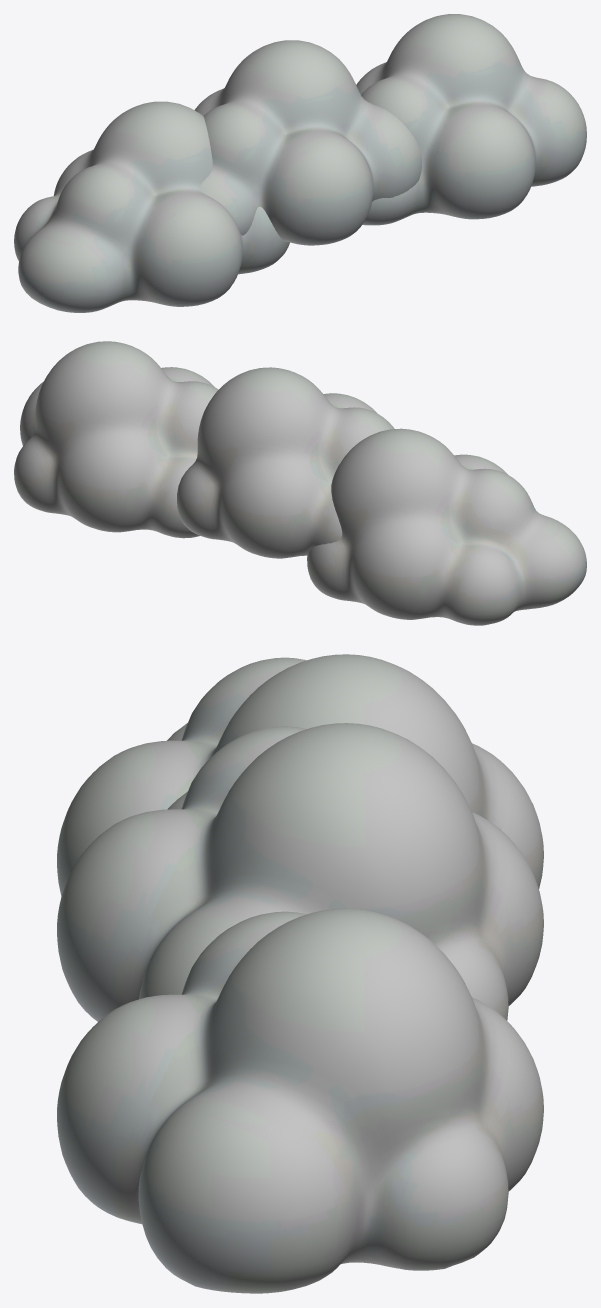
The model's file is Wolke.fbx.
3 renders of one model, top to bottom at view 1: azimuth 30°, elevation 25°; view 2: azimuth 150°, elevation 25°; view 3: azimuth 270°, elevation 25°, orthographic. The views are drawn at different scales.
Visible parts, largest first — view 1: node_id65, node_id55, node_id63; view 2: node_id65, node_id63, node_id55; view 3: node_id63, node_id55, node_id65.
Boxes of the visible parts, left/top/right/bottom form: node_id65: left=14, top=101, right=289, bottom=312; node_id55: left=194, top=40, right=421, bottom=245; node_id63: left=356, top=14, right=586, bottom=225; node_id65: left=307, top=428, right=586, bottom=625; node_id63: left=14, top=341, right=218, bottom=538; node_id55: left=177, top=367, right=394, bottom=558; node_id63: left=57, top=908, right=543, bottom=1293; node_id55: left=57, top=723, right=543, bottom=1021; node_id65: left=57, top=654, right=543, bottom=896.
Bounding box in the file's own units: 1.09 × 0.3386 × 0.4155.
Materials: 1 (1 with a texture image).
